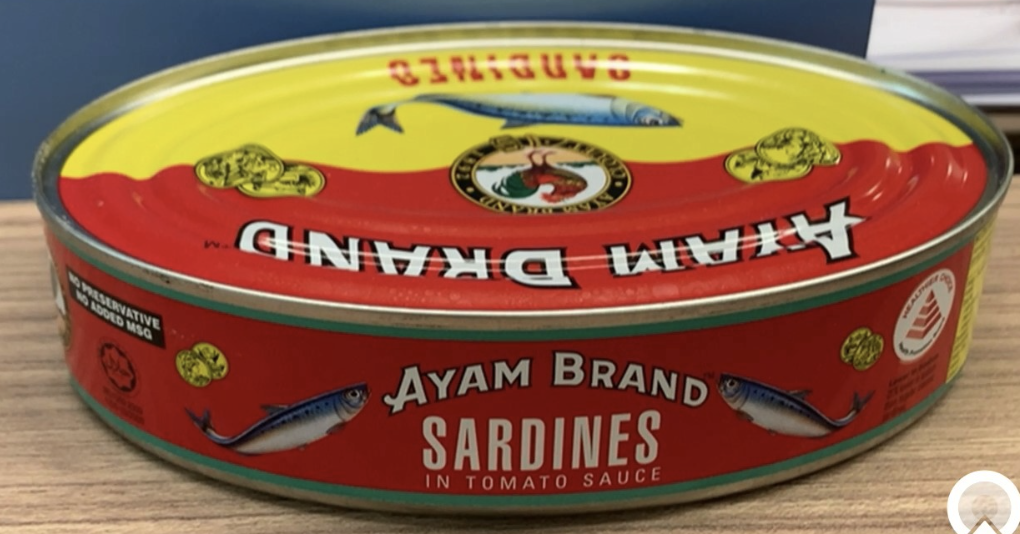sardines_450g: (77, 56, 958, 465)
